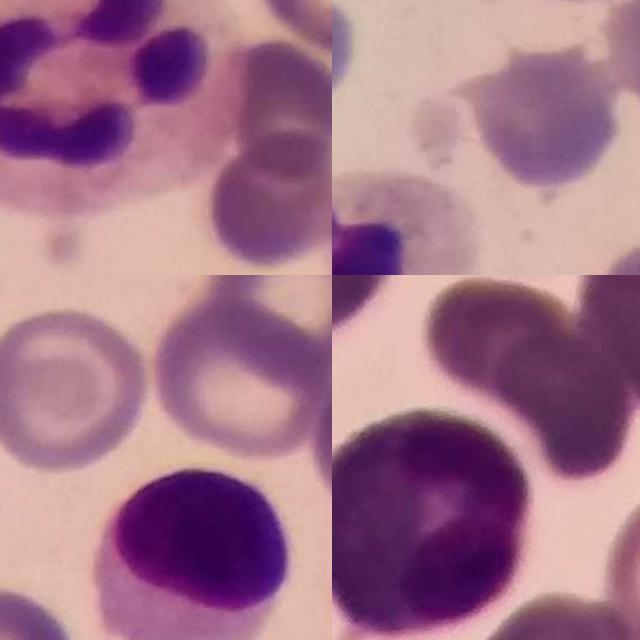Eosinophil: (332, 404, 529, 634)
Lymphocyte: (94, 469, 291, 640)
Neutrophil: (0, 0, 246, 219), (332, 173, 487, 275)
